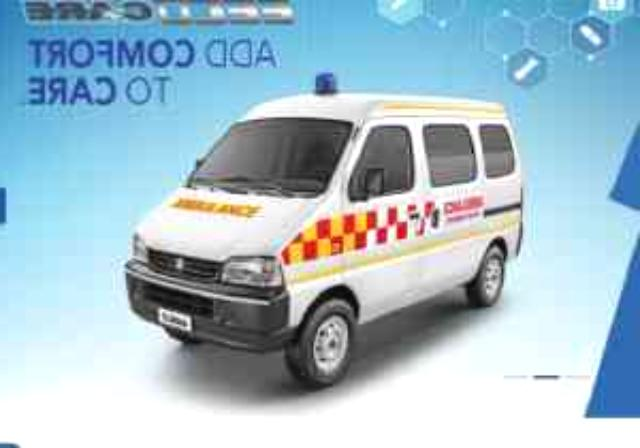ambulance: (124, 73, 523, 388)
